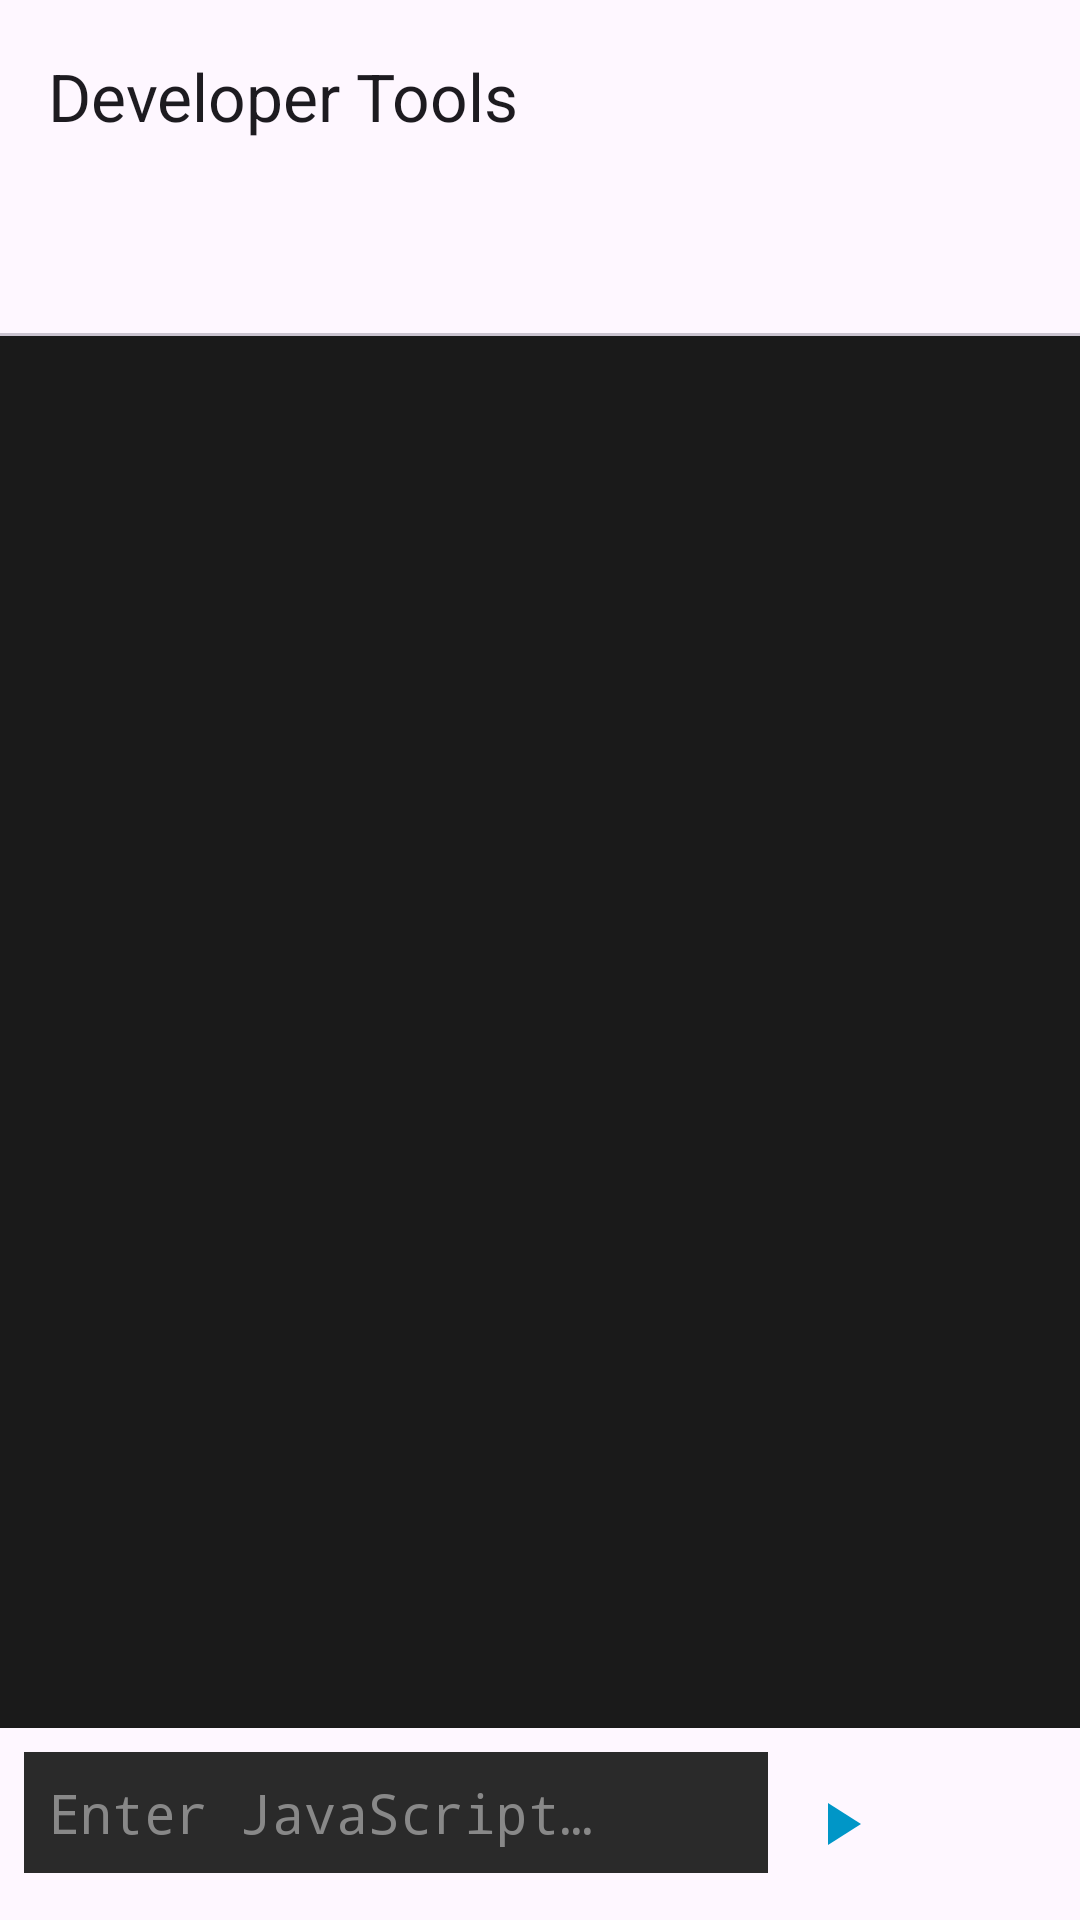

Screen size 1080×1920. Icon name, then its center in pixels as point (x, y):
Run: point (844, 1824)
